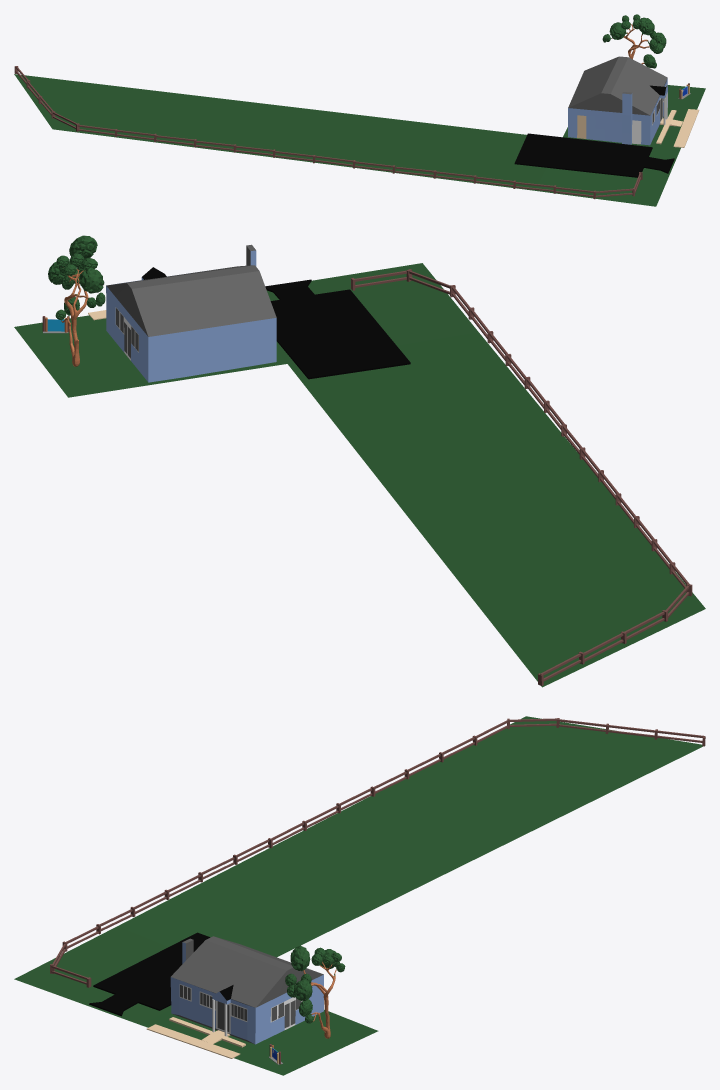
The model's file is intcapeclubhouse.glb.
3 views of the same model, one above another, from view 1: azimuth 30°, elevation 25°; view 2: azimuth 150°, elevation 25°; view 3: azimuth 270°, elevation 25° (orthographic). The views are drawn at different scales.
Parts seen in each view (by area): view 1: Pine_Plane.002; view 2: Pine_Plane.002; view 3: Pine_Plane.002.
Part boxes in pixels (x1,y1,x2,y2): Pine_Plane.002: (14, 14, 705, 206); Pine_Plane.002: (14, 235, 705, 687); Pine_Plane.002: (14, 716, 705, 1075).
Size of the model in its own units: 0.2898 by 0.0391 by 0.255.
Materials: 14 (1 with a texture image).
